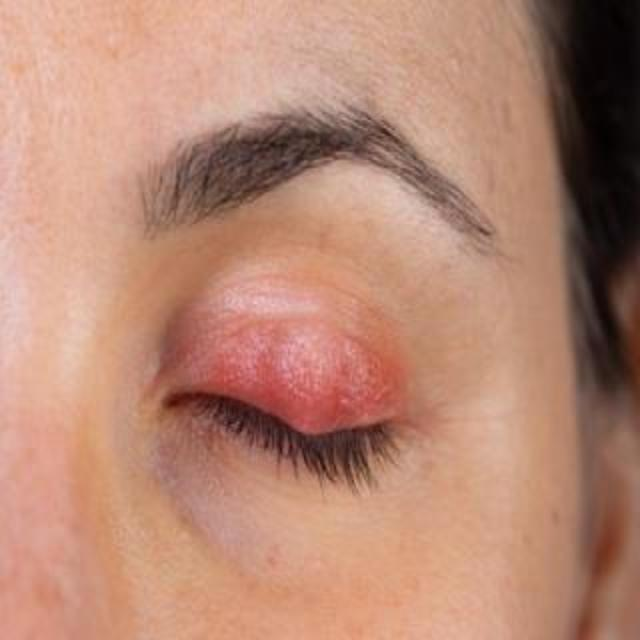Stye: (198, 287, 448, 460)
